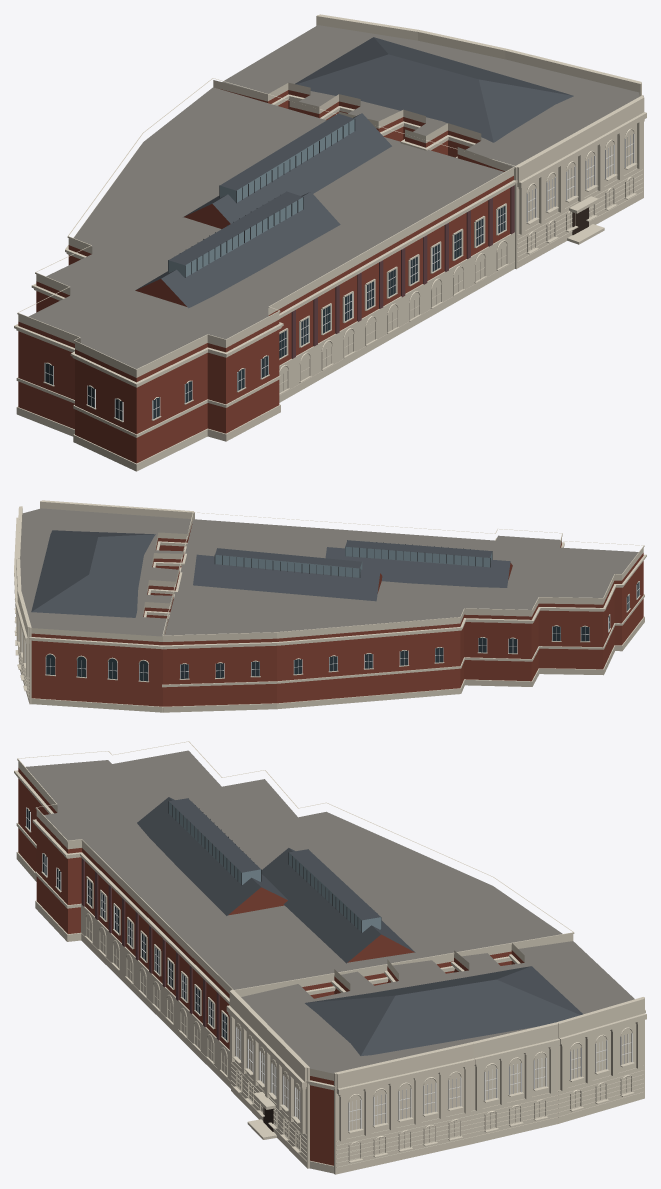
Rendered from porchester_hall.glb.
3 views of the same model, one above another, from view 1: azimuth 30°, elevation 25°; view 2: azimuth 150°, elevation 25°; view 3: azimuth 270°, elevation 25° (orthographic). The views are drawn at different scales.
Bounding box in the file's own units: 101 × 18.16 × 79.1.
